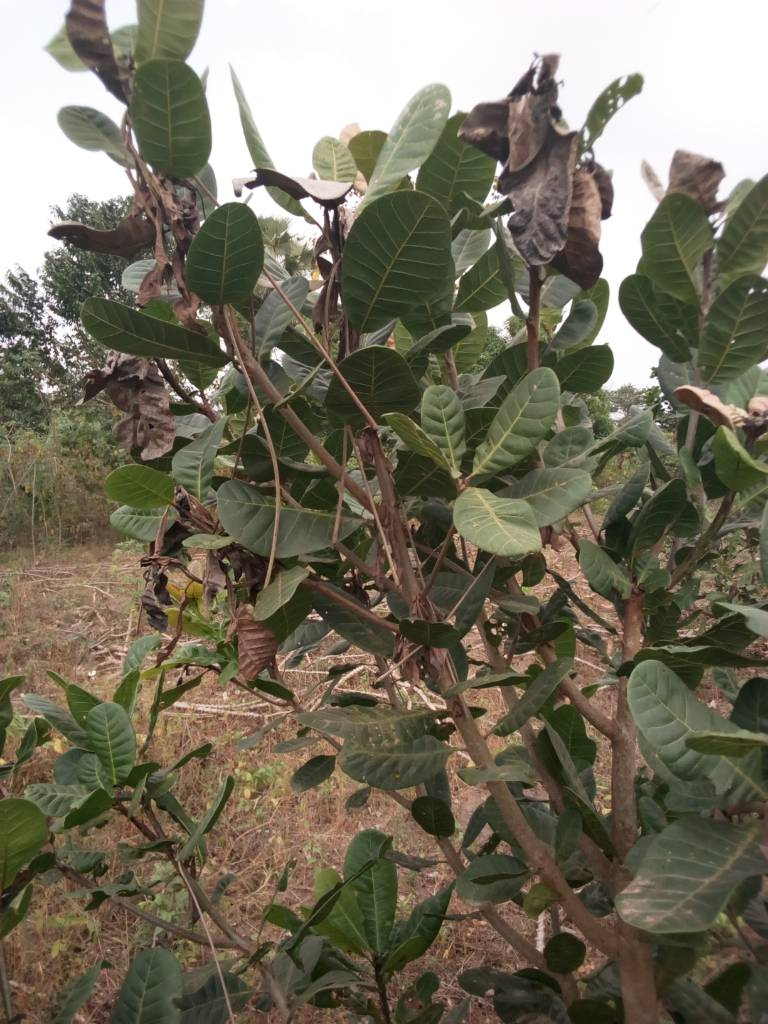Dessèchement des bourgeons: (472, 60, 604, 286)
